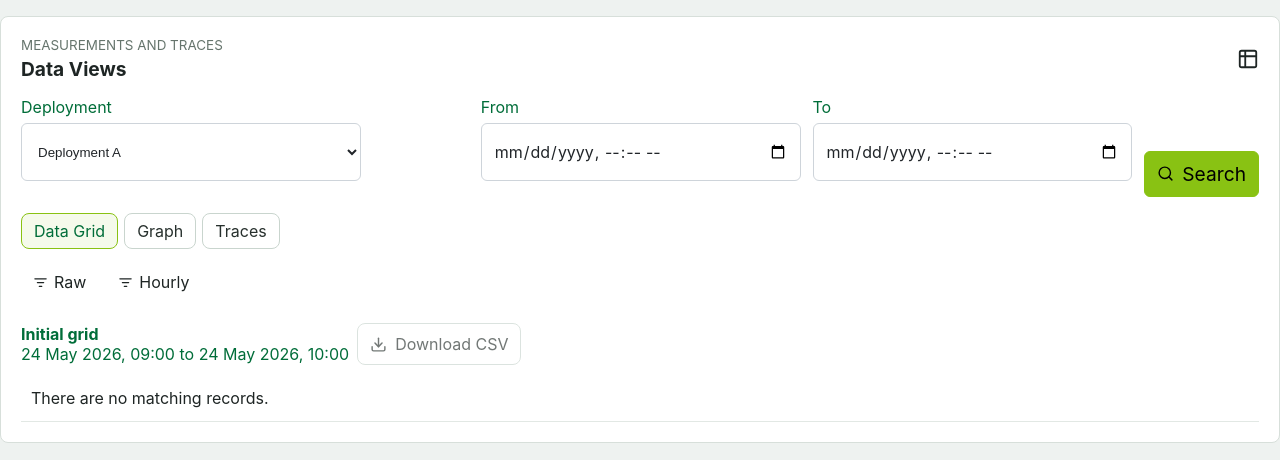
Test: Portal dashboard request ownership › keeps averaging controls interactive while an intermediate grid request is pending
The width and height of the screenshot is (1280, 460).
Expected: the heading "Initial grid" is shown, 21,324 -> 98,344
What coordinates should you click on to do the following:
click the button "Raw"
I would click on:
 (60, 282)
Its box is 21,265 -> 98,299.
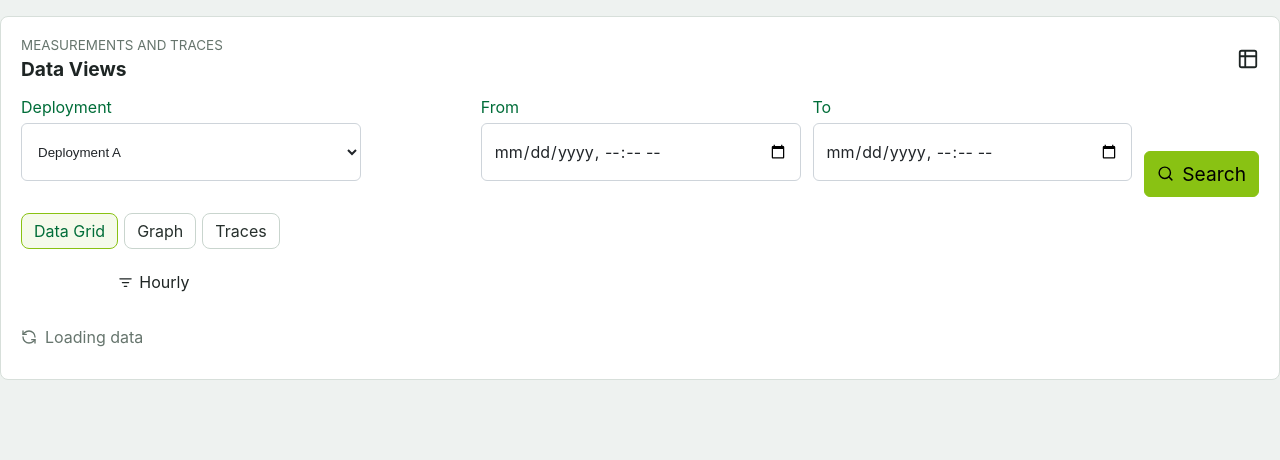
Expected: the heading "Initial grid" is gone
What coordinates should you click on to do the following:
click the button "Hourly"
I would click on:
 (154, 282)
Its box is 106,265 -> 202,299.
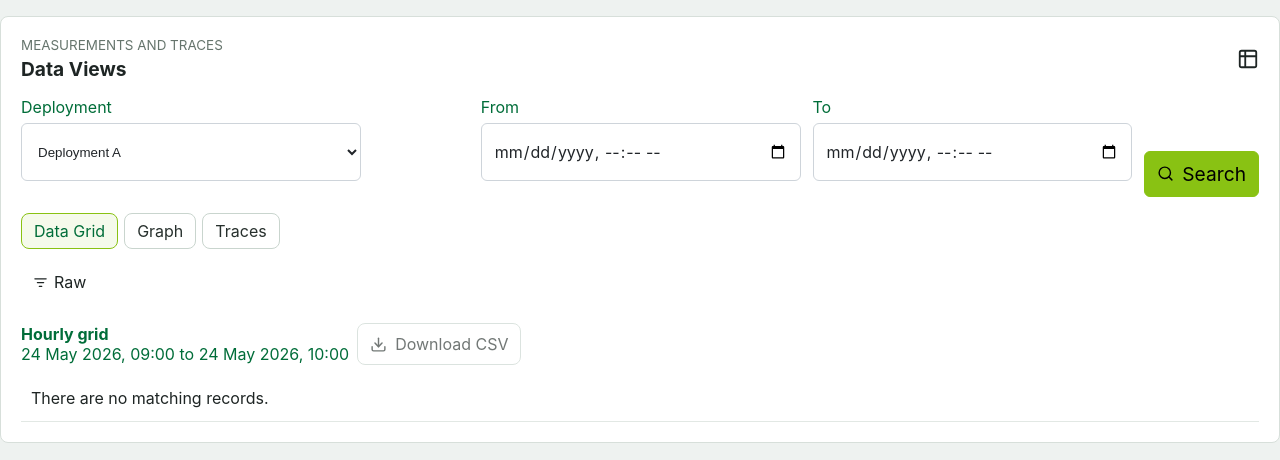
Expected: the heading "Hourly grid" is shown, 21,324 -> 108,344
